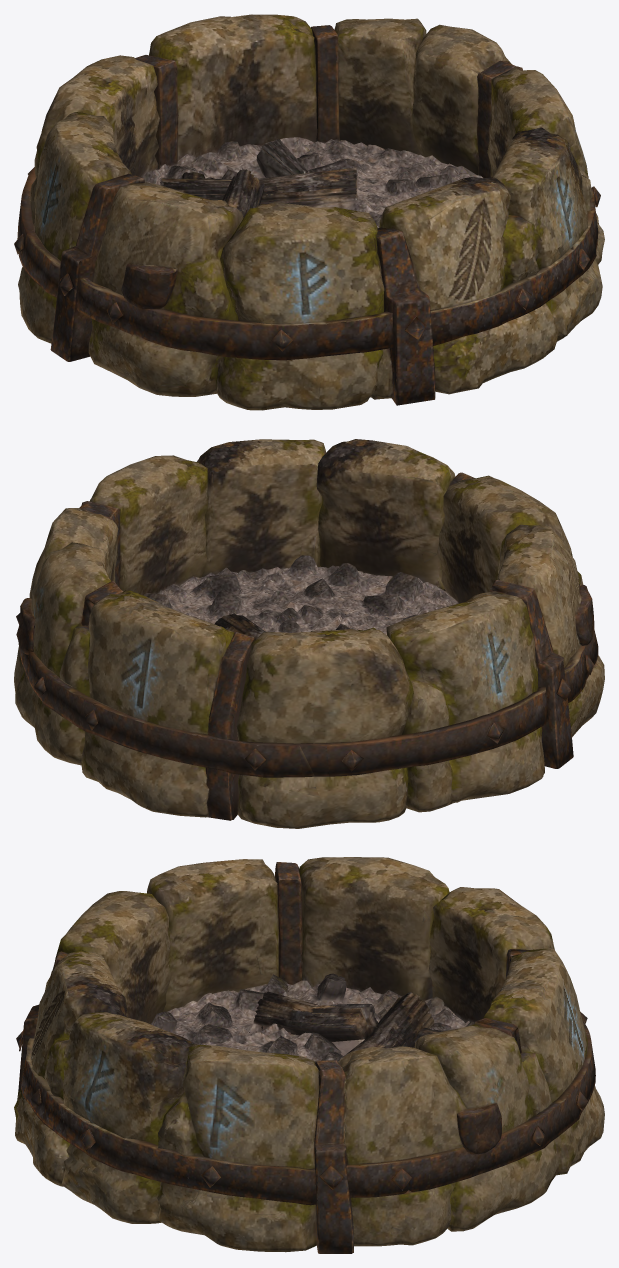
The model's file is HallHearth.fbx.
3 views of the same model, one above another, from view 1: azimuth 30°, elevation 25°; view 2: azimuth 150°, elevation 25°; view 3: azimuth 270°, elevation 25° (orthographic). The views are drawn at different scales.
Visible parts, largest first — view 1: Mesh_0; view 2: Mesh_0; view 3: Mesh_0.
Part boxes in pixels (box(x1,y1,x2,y2)): Mesh_0: box(14, 14, 604, 410); Mesh_0: box(14, 439, 604, 828); Mesh_0: box(14, 857, 604, 1253).
Bounding box in the file's own units: 95.36 × 30.52 × 94.78.
Materials: 1 (1 with a texture image).
